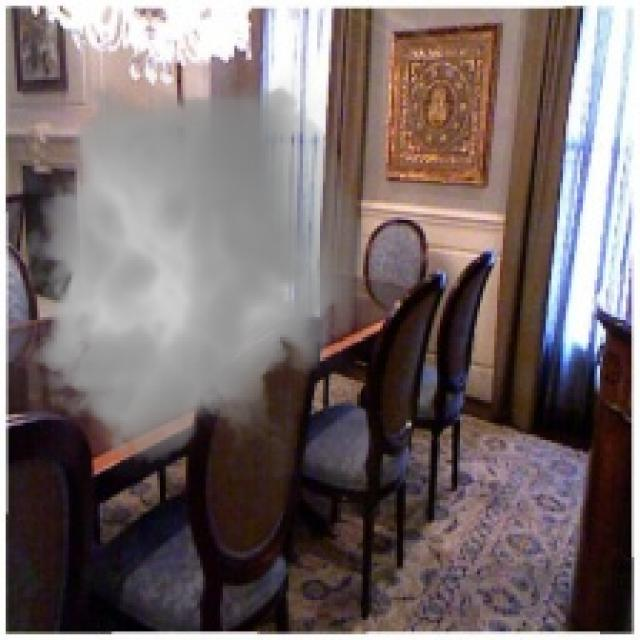smoke: (12, 66, 377, 477)
